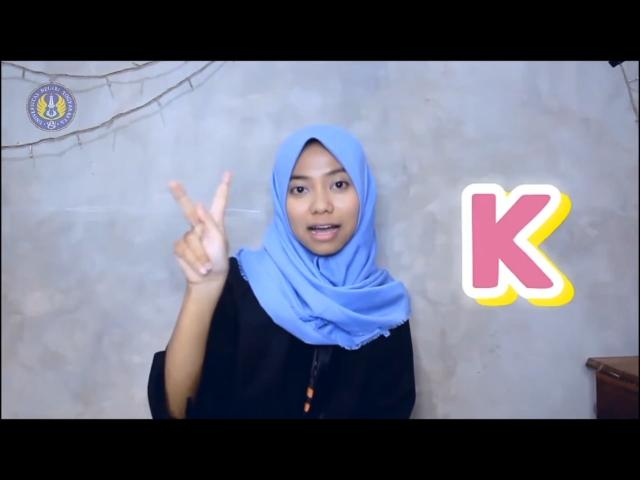K: (167, 168, 236, 294)
